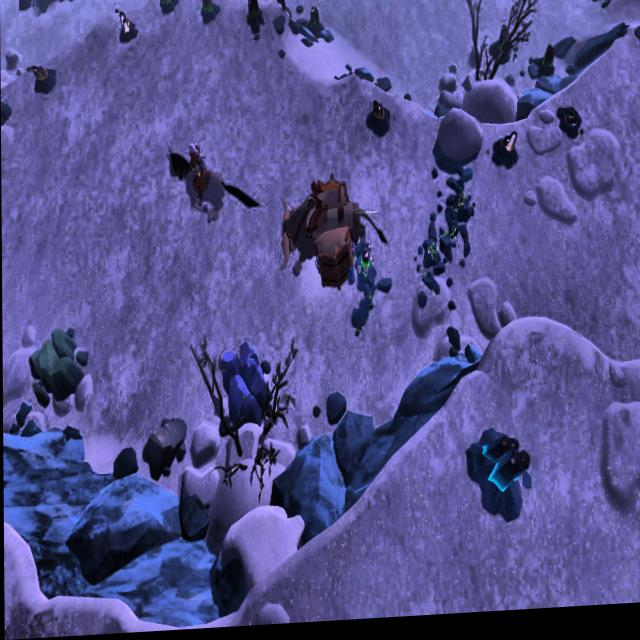ore_t3: (244, 0, 262, 30), (307, 7, 323, 35), (543, 47, 556, 81), (497, 26, 511, 57), (199, 0, 215, 22), (158, 0, 174, 11)
ore_t4: (481, 437, 530, 504)
rock_t3: (28, 326, 92, 411)
rock_t4: (216, 340, 274, 441)
